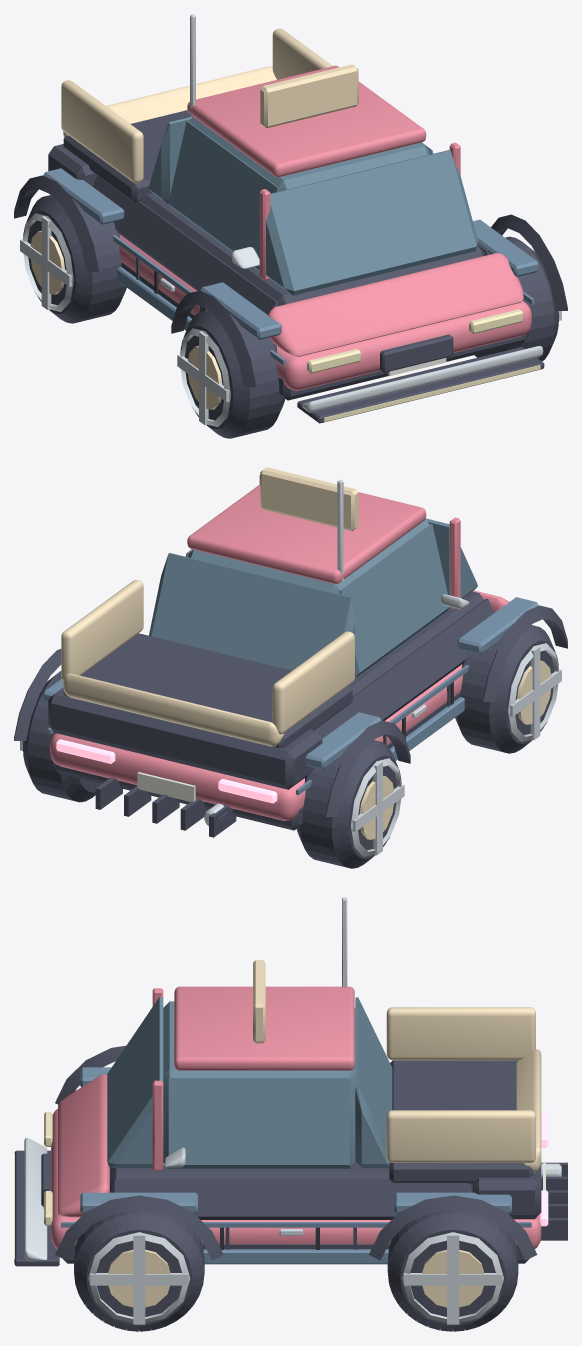
The model's file is market_wagon.fbx.
3 views of the same model, one above another, from view 1: azimuth 30°, elevation 25°; view 2: azimuth 150°, elevation 25°; view 3: azimuth 270°, elevation 25° (orthographic).
Visible parts, largest first — view 1: Glass, Body, Trim, Accent2, Accent, Wheel_FR, Wheel_RR, Metal, Light3, Accent3, Wheel_FL, Light (+1 smaller); view 2: Trim, Glass, Body, Accent2, Wheel_RR, Wheel_FR, Accent, Metal, Light3, Wheel_RL, Metal2, Light2 (+2 smaller); view 3: Trim, Glass, Body, Accent2, Metal, Wheel_FL, Wheel_RL, Accent, Metal2, Accent3, Light3, Light (+1 smaller).
Boxes of the visible parts, x1,y1,x2,y2 form: Glass: [148, 117, 477, 295]; Body: [119, 65, 531, 390]; Trim: [14, 110, 567, 423]; Accent2: [61, 28, 332, 183]; Accent: [43, 168, 538, 365]; Wheel_FR: [180, 310, 285, 438]; Wheel_RR: [23, 195, 126, 323]; Metal: [20, 213, 561, 427]; Light3: [260, 64, 358, 128]; Accent3: [190, 14, 543, 412]; Wheel_FL: [474, 236, 558, 361]; Light: [307, 309, 540, 421]; Trim: [14, 591, 567, 837]; Glass: [149, 518, 477, 677]; Body: [50, 475, 508, 820]; Accent2: [61, 580, 354, 746]; Wheel_RR: [296, 740, 401, 868]; Wheel_FR: [455, 625, 558, 753]; Accent: [43, 597, 538, 794]; Metal: [20, 643, 561, 856]; Light3: [260, 467, 358, 531]; Wheel_RL: [23, 671, 101, 802]; Metal2: [359, 660, 551, 839]; Light2: [56, 739, 277, 803]; Trim: [14, 1045, 567, 1266]; Glass: [107, 996, 392, 1168]; Body: [51, 986, 541, 1248]; Accent2: [163, 1007, 541, 1172]; Metal: [88, 1163, 561, 1324]; Wheel_FL: [74, 1209, 204, 1331]; Wheel_RL: [387, 1209, 518, 1331]; Accent: [61, 1067, 531, 1264]; Metal2: [108, 1249, 484, 1307]; Accent3: [24, 897, 347, 1260]; Light3: [253, 960, 265, 1043]; Light: [14, 1112, 52, 1262].
Size of the model in its own units: 3.41 by 3.15 by 4.89.
